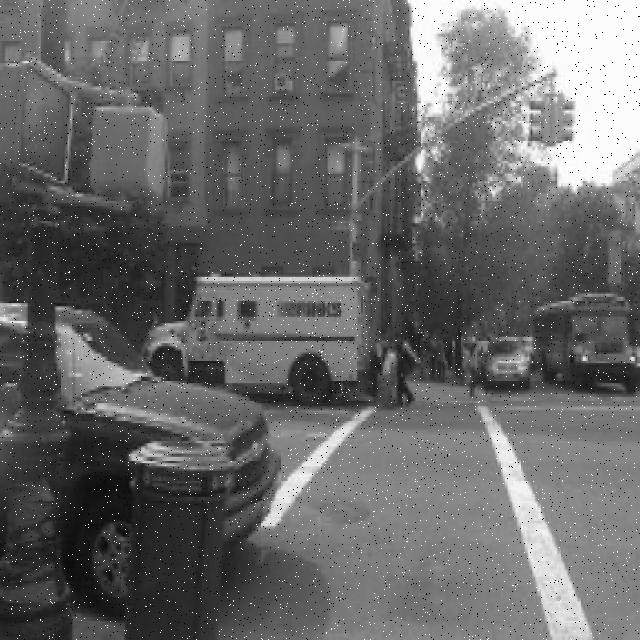Box Truck: (146, 277, 373, 405)
